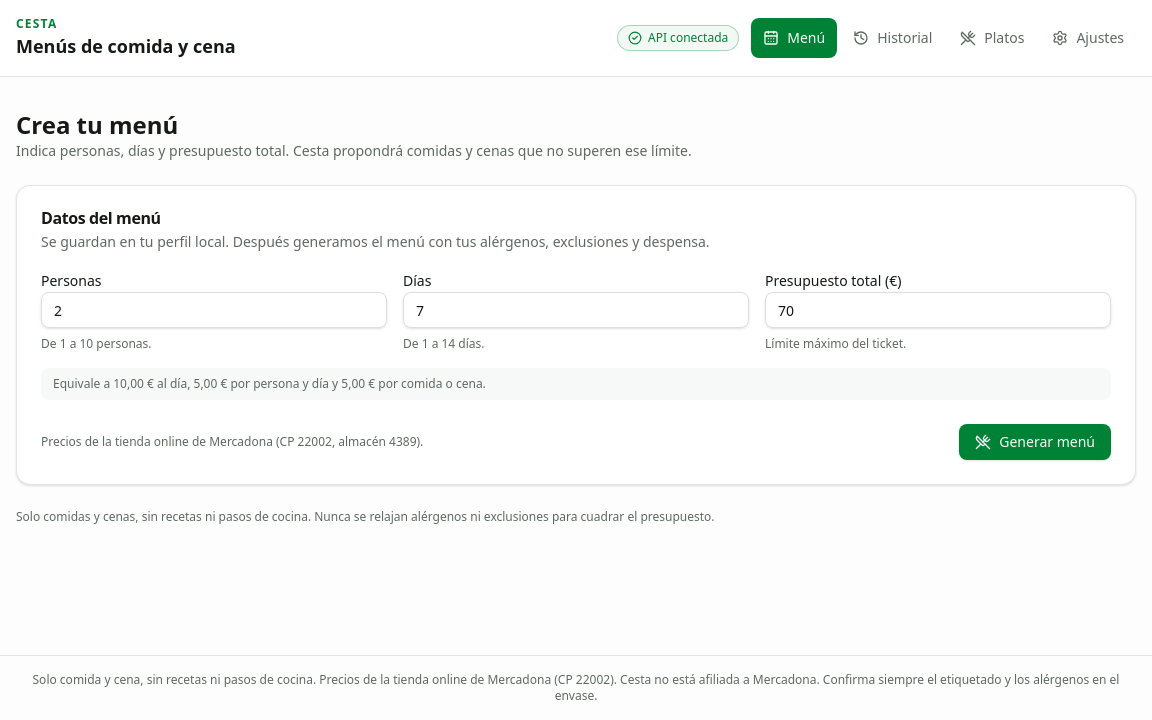
Test: MenuPage › muestra un error accesible y permite reintentar
Click the button "Generar menú" at (1035, 442), box [959, 424, 1111, 460]
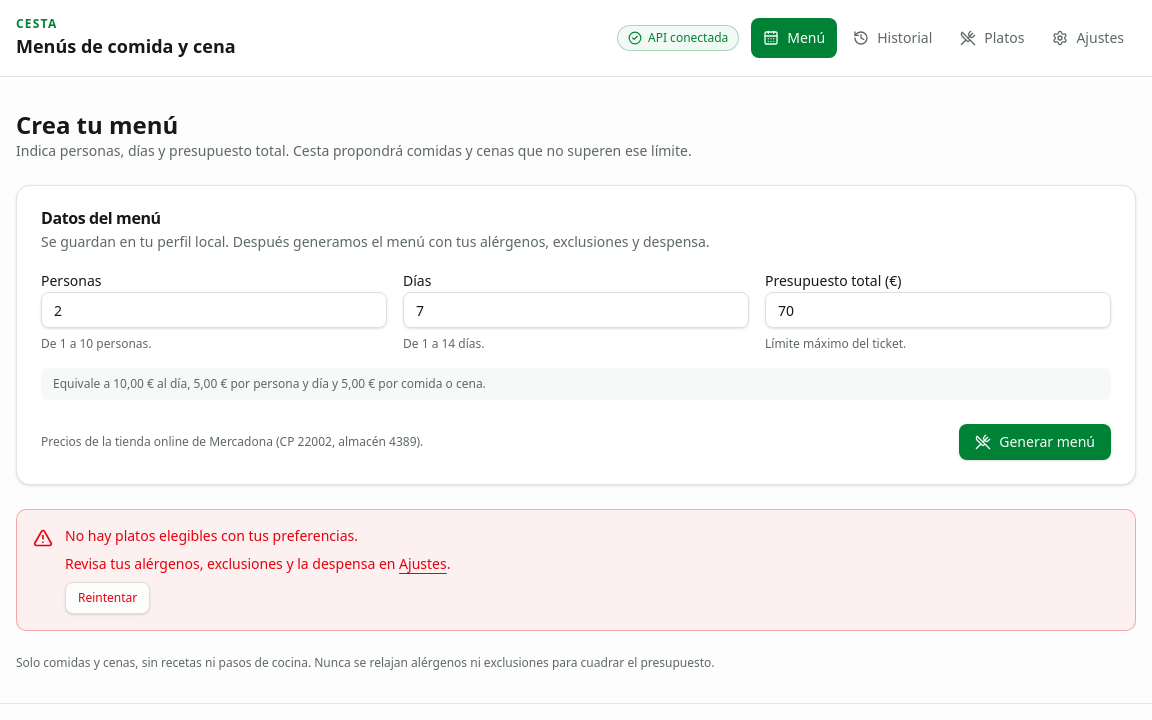
expect the 2nd message shows "No hay platos elegibles con tus preferencias.": met, box [65, 526, 358, 545]
expect the 2nd message shows "Revisa tus alérgenos, exclusiones y la despensa": met, box [65, 554, 396, 573]
Click the button "Reintentar" at (108, 598), box [65, 582, 150, 614]
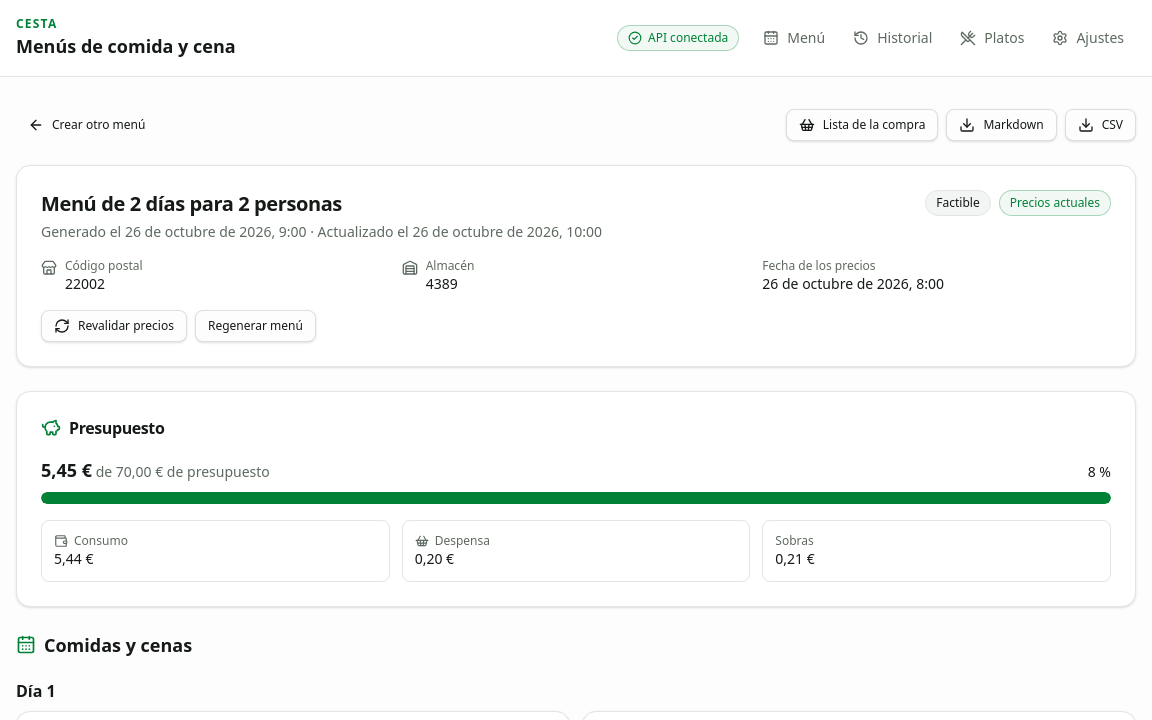
expect the heading "Menú de 2 días para 2 personas" is shown: met, box [41, 190, 342, 217]
